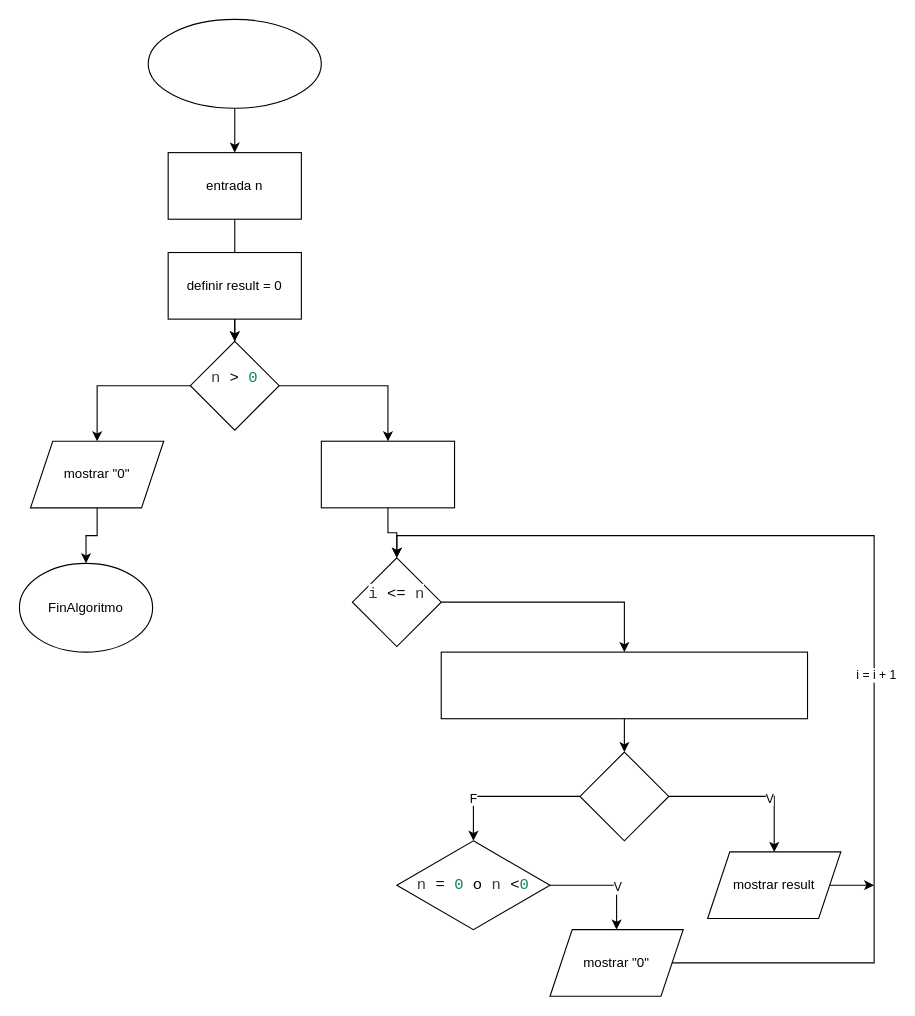
Image size: 915x1016. Some labels were removed from this diagram. The box of each missing label's shape, as (x1, y1, x2, y2) in pixels:
Algoritmo Practico 2 ejer 7: (147, 18, 321, 108)
definir i = 1: (320, 440, 455, 508)
i = n: (579, 751, 669, 841)
result = result + (( - 1 ) * pow ( - 1 , i) / i: (440, 651, 808, 719)
